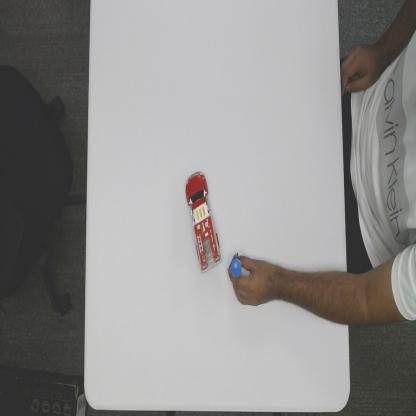Arm: (278, 262, 347, 330)
Firetruck: (184, 169, 223, 275)
Hand: (230, 256, 277, 309)
